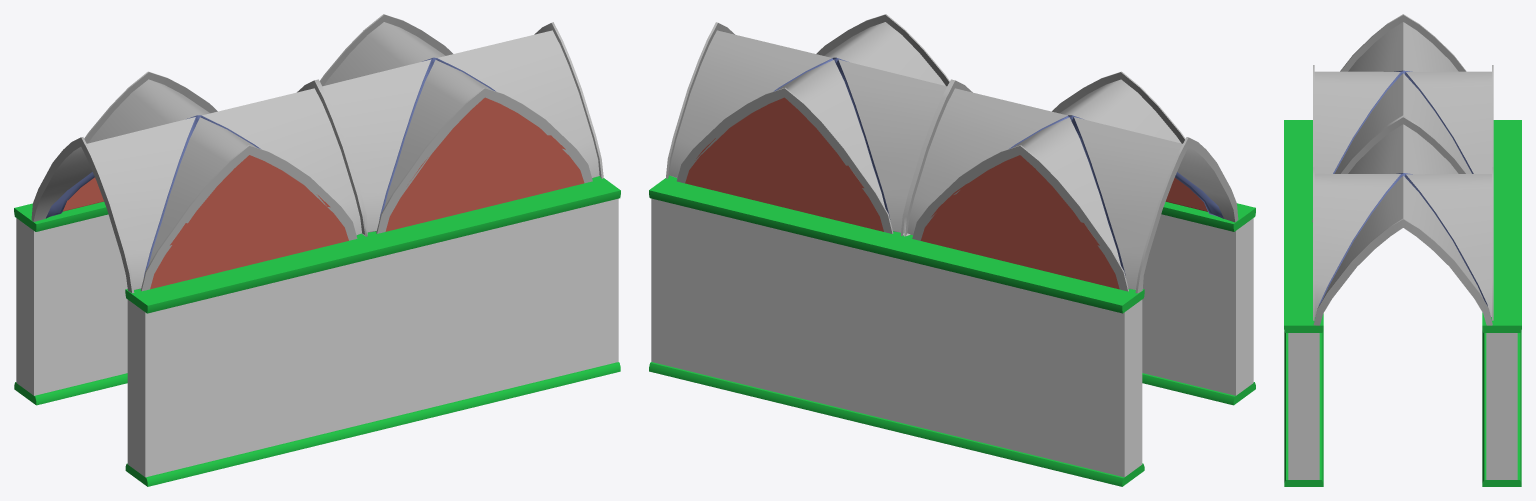
The model's file is Basic Hallway 03_NF.fbx.
The picture shows the model from 3 angles, left to right: view 1: azimuth 30°, elevation 25°; view 2: azimuth 150°, elevation 25°; view 3: azimuth 270°, elevation 25°; orthographic projection. The views are drawn at different scales.
Parts seen in each view (by area): view 1: Plane_001; view 2: Plane_001; view 3: Plane_001.
Boxes of the visible parts, x1,y1,x2,y2 form: Plane_001: (14,14,620,486); Plane_001: (649,14,1255,486); Plane_001: (1284,14,1521,486).
Bounding box in the file's own units: 1262 × 764 × 615.
